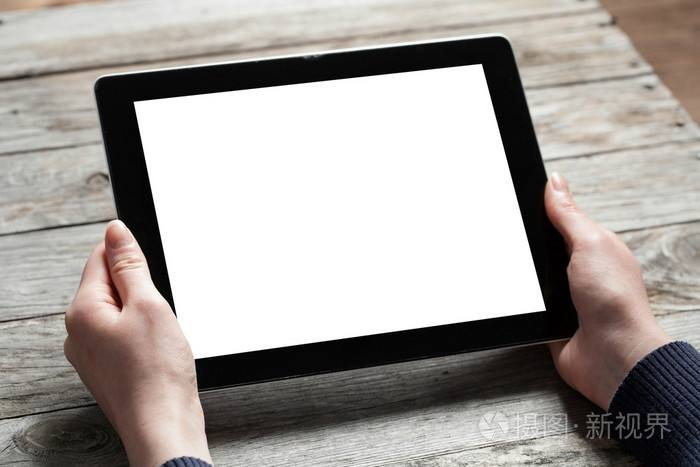pad: (45, 29, 675, 429)
